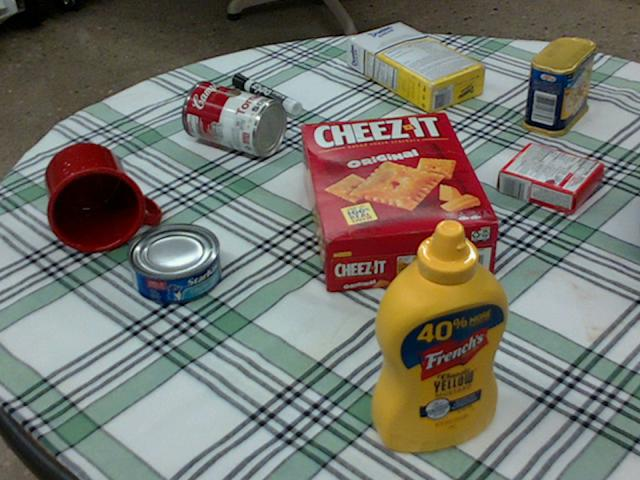cracker_box: (303, 112, 499, 289)
gelatin_box: (497, 142, 600, 212)
large_marker: (231, 73, 299, 113)
mug: (43, 142, 158, 252)
mustard_bottle: (373, 218, 510, 450)
potted_meat_can: (520, 37, 593, 136)
sugar_box: (347, 22, 487, 112)
tomato_soup_can: (181, 79, 286, 155)
tuna_fish_can: (125, 222, 219, 303)
